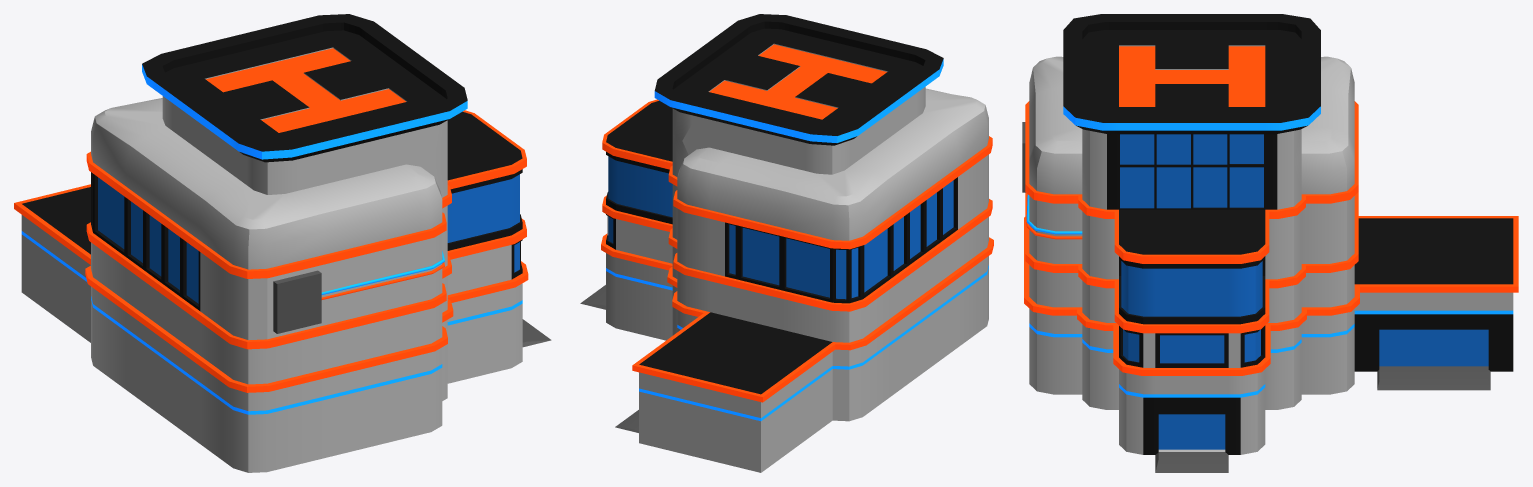
The model's file is Building_Exterior.fbx.
3 views of the same model, side by side, from view 1: azimuth 30°, elevation 25°; view 2: azimuth 150°, elevation 25°; view 3: azimuth 270°, elevation 25° (orthographic). The views are drawn at different scales.
Visible parts, largest first — view 1: Box009; view 2: Box009; view 3: Box009.
Boxes of the visible parts, x1,y1,x2,y2 form: Box009: (14,14,551,472); Box009: (580,14,993,472); Box009: (1022,14,1518,472).
Bounding box in the file's own units: 135 × 103 × 157.
